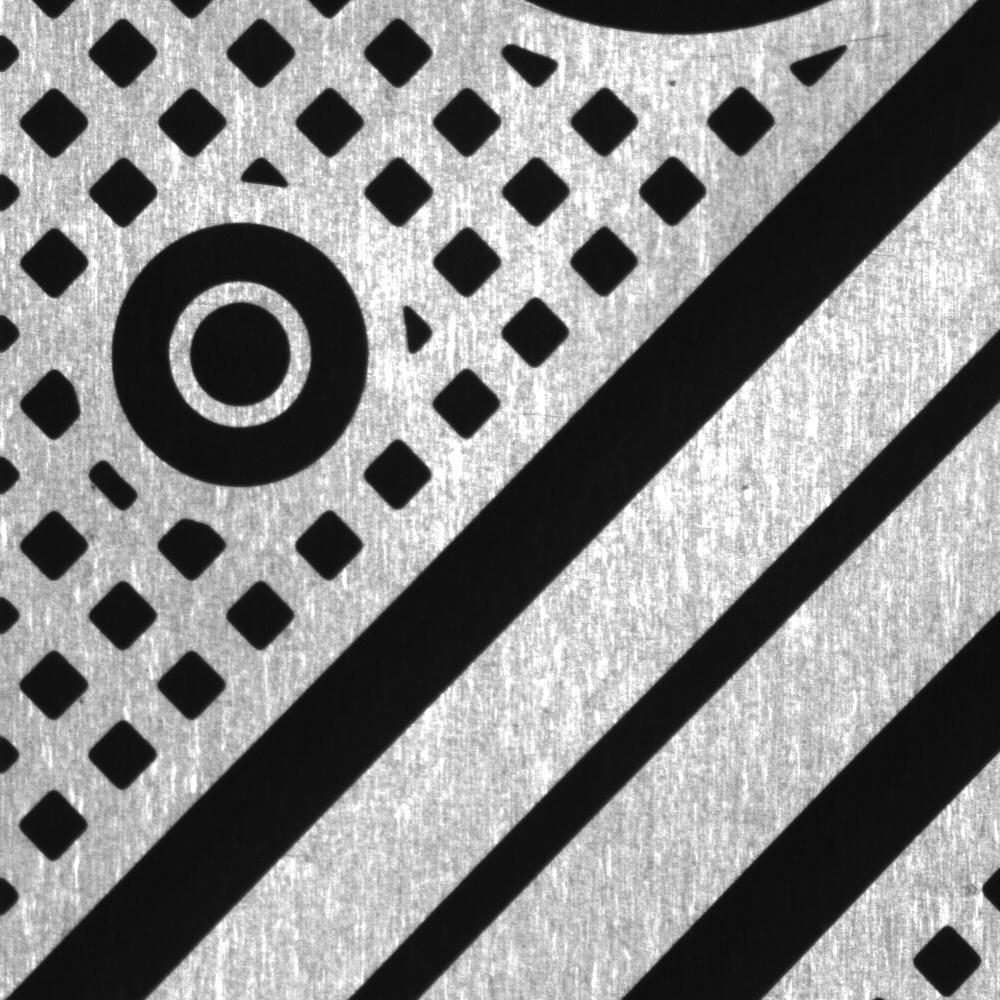Etching: (734, 476, 757, 497)
Scar: (668, 24, 911, 63), (512, 398, 570, 424)
